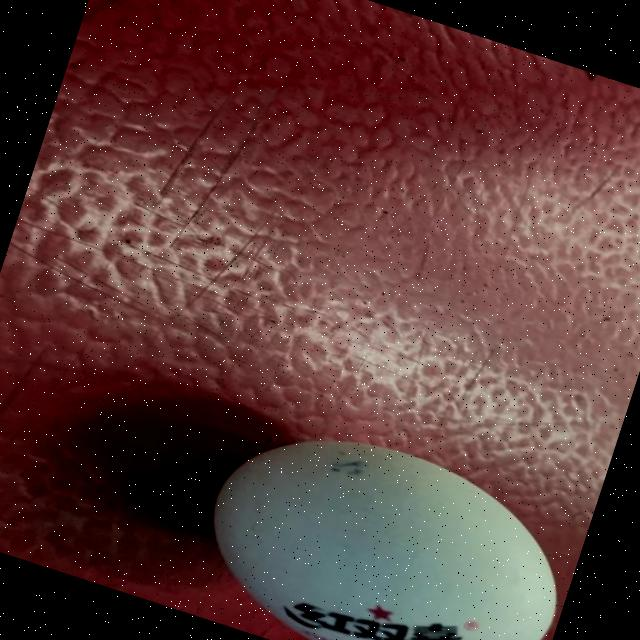ping-pong-ball: (152, 380, 597, 640)
